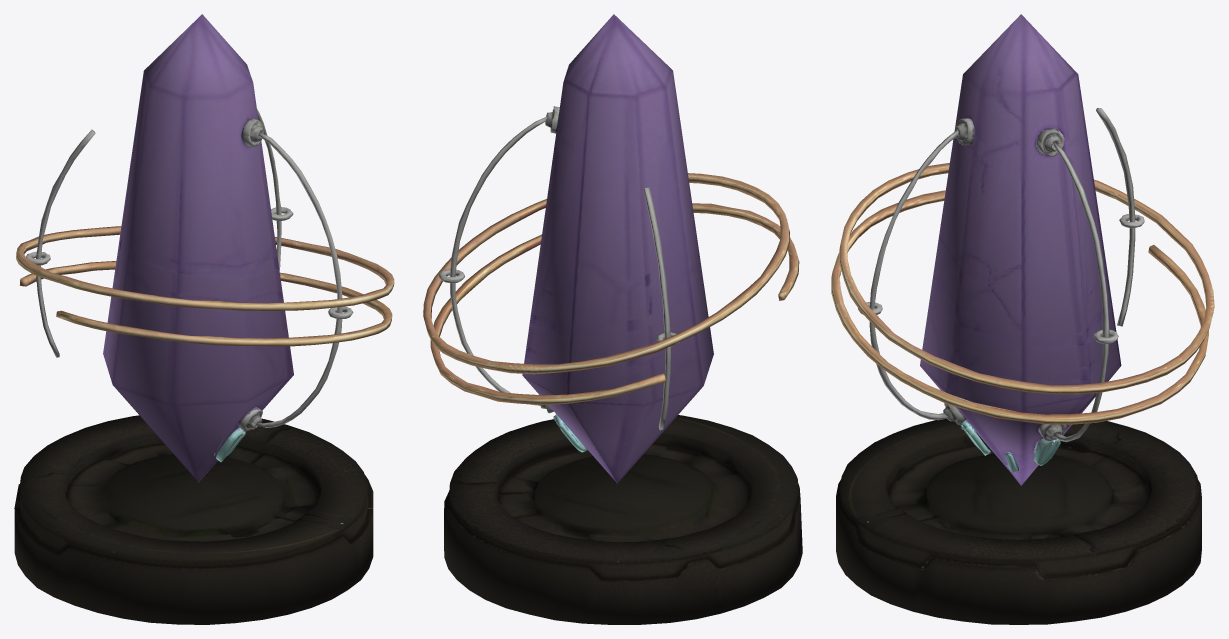
The model's file is tripo_convert_ae5ce4ce-d97a-4944-a1ab-92cf369997e6.fbx.
The picture shows the model from 3 angles, left to right: view 1: azimuth 30°, elevation 25°; view 2: azimuth 150°, elevation 25°; view 3: azimuth 270°, elevation 25°; orthographic projection.
Visible parts, largest first — view 1: tripo_node_ae5ce4ce; view 2: tripo_node_ae5ce4ce; view 3: tripo_node_ae5ce4ce.
Boxes of the visible parts, bbox=[...] form: tripo_node_ae5ce4ce: bbox=[14, 14, 394, 624]; tripo_node_ae5ce4ce: bbox=[423, 14, 802, 624]; tripo_node_ae5ce4ce: bbox=[831, 14, 1214, 624].
Size of the model in its own units: 0.6504 by 0.998 by 0.6426.
1 material, 1 textured.
